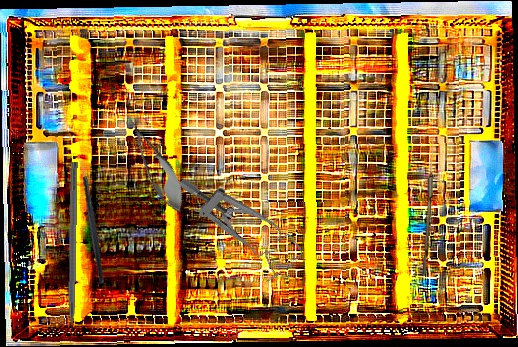Chopper: (51, 154, 127, 285)
Hook Surgical: (65, 161, 78, 346)
Micro Scissor: (114, 106, 195, 220)
Speculum: (175, 147, 307, 292)
Surgical Spoon: (422, 137, 436, 277)
